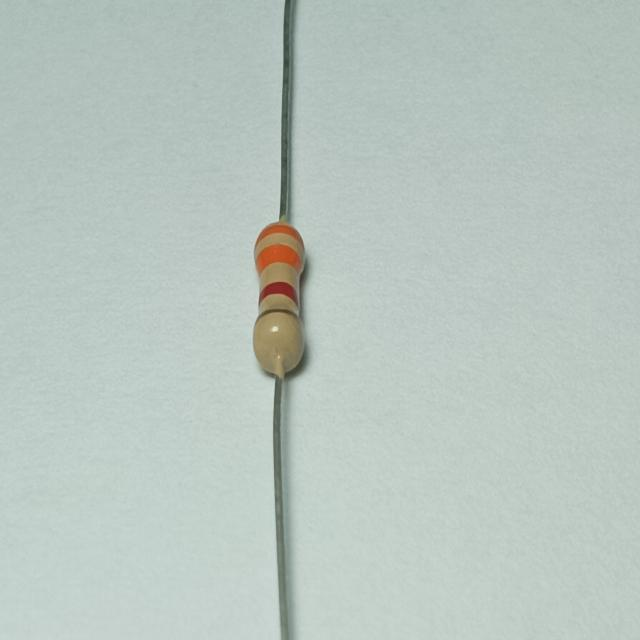3.3k ohms: (227, 209, 326, 385)
